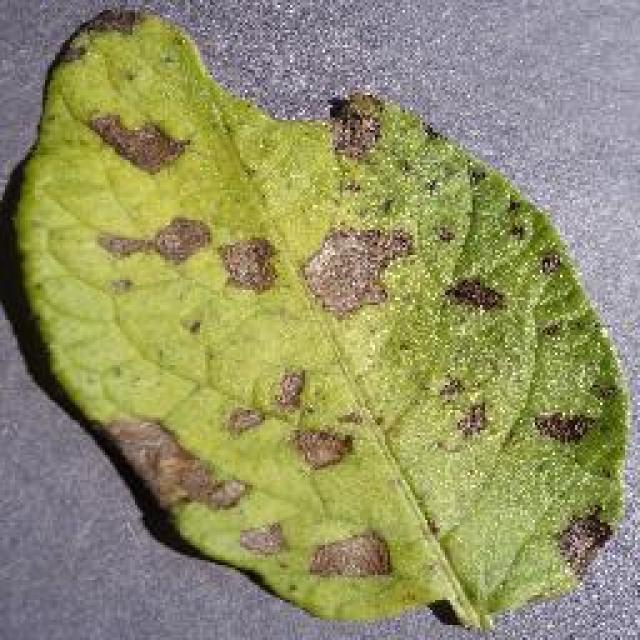early_blight: (0, 2, 632, 635)
